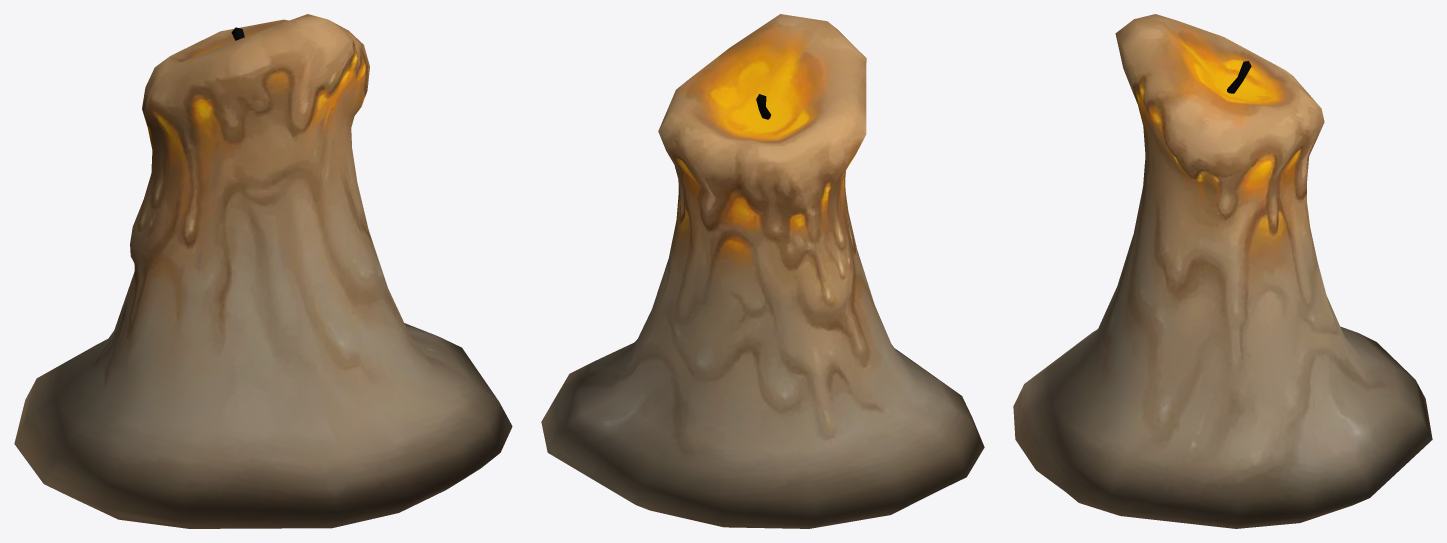
3 renders of one model, left to right at view 1: azimuth 30°, elevation 25°; view 2: azimuth 150°, elevation 25°; view 3: azimuth 270°, elevation 25°, orthographic. The views are drawn at different scales.
Bounding box in the file's own units: 2.83 × 2.83 × 2.54.
Materials: 2 (2 with a texture image).
